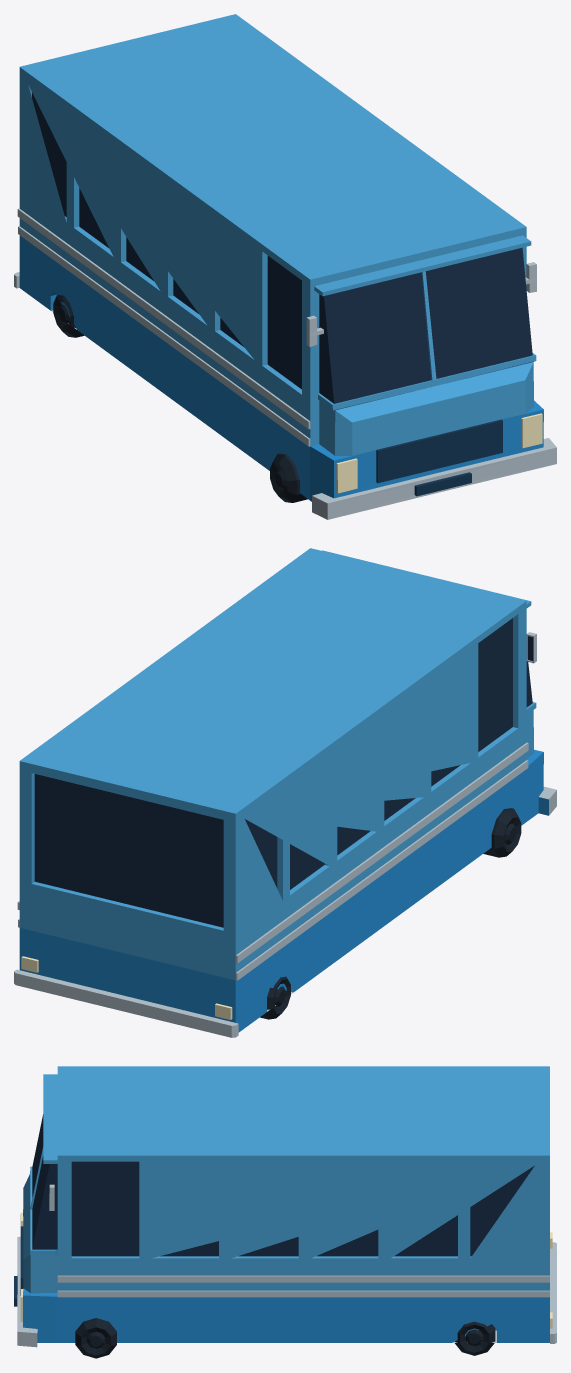
Rendered from bus.glb.
3 views of the same model, one above another, from view 1: azimuth 30°, elevation 25°; view 2: azimuth 150°, elevation 25°; view 3: azimuth 270°, elevation 25° (orthographic). The views are drawn at different scales.
Visible parts, largest first — view 1: Bus_Cube.001, FrontWheels_Cylinder.006, BackWheels_Cylinder.007; view 2: Bus_Cube.001, FrontWheels_Cylinder.006, BackWheels_Cylinder.007; view 3: Bus_Cube.001, FrontWheels_Cylinder.006, BackWheels_Cylinder.007.
Boxes of the visible parts, box(x1,y1,x2,y2) form: Bus_Cube.001: box(14, 14, 556, 519); FrontWheels_Cylinder.006: box(270, 453, 307, 502); BackWheels_Cylinder.007: box(53, 295, 84, 337); Bus_Cube.001: box(14, 548, 556, 1037); FrontWheels_Cylinder.006: box(483, 808, 521, 857); BackWheels_Cylinder.007: box(260, 976, 290, 1019); Bus_Cube.001: box(14, 1066, 556, 1347); FrontWheels_Cylinder.006: box(75, 1318, 116, 1358); BackWheels_Cylinder.007: box(455, 1321, 495, 1355).
Bounding box in the file's own units: 0.4269 × 0.4101 × 1.
